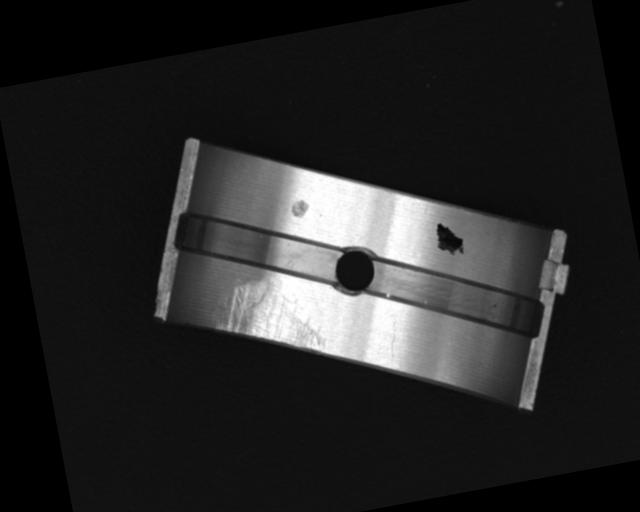blot: (431, 219, 467, 260)
bruise: (288, 198, 310, 221)
gap: (357, 231, 547, 363), (165, 186, 346, 311)
hole: (328, 240, 384, 302)
nick: (381, 318, 406, 365)
scratch: (206, 268, 327, 371)
